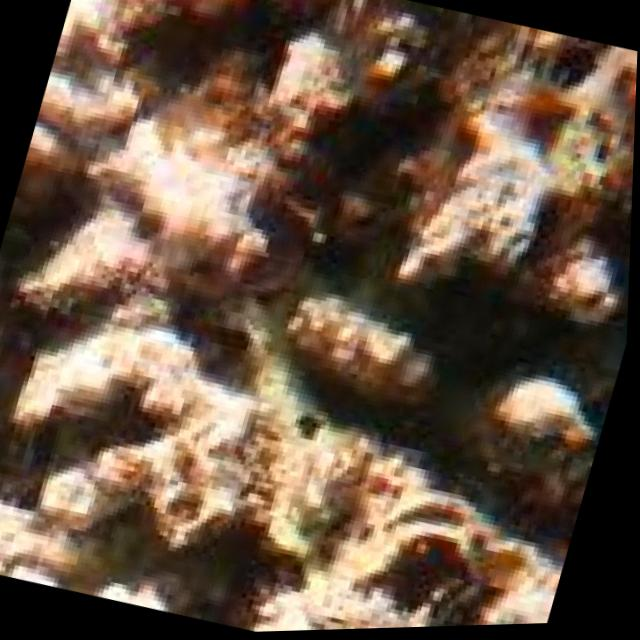Bleached Coral: (0, 303, 606, 640)
